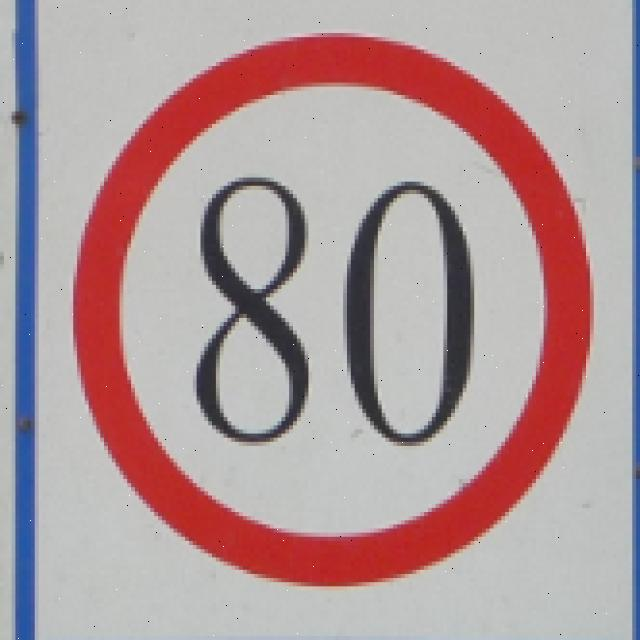speed limit 80: (74, 29, 594, 597)
